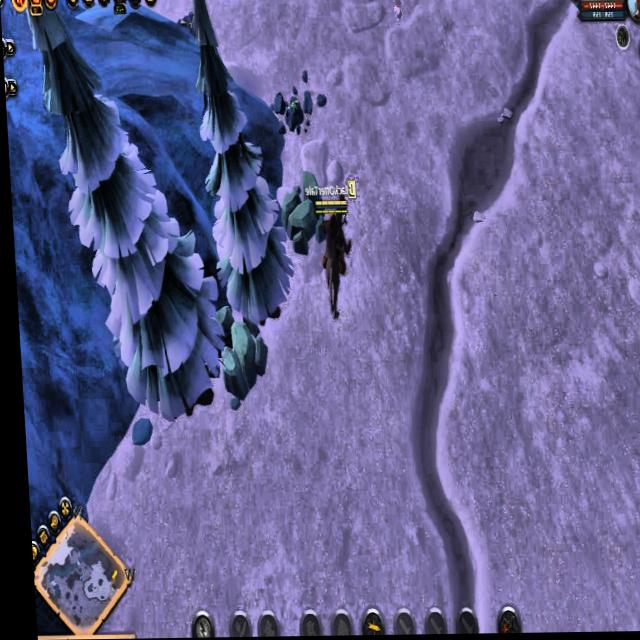sandstone: (210, 318, 268, 407), (277, 170, 325, 253)
